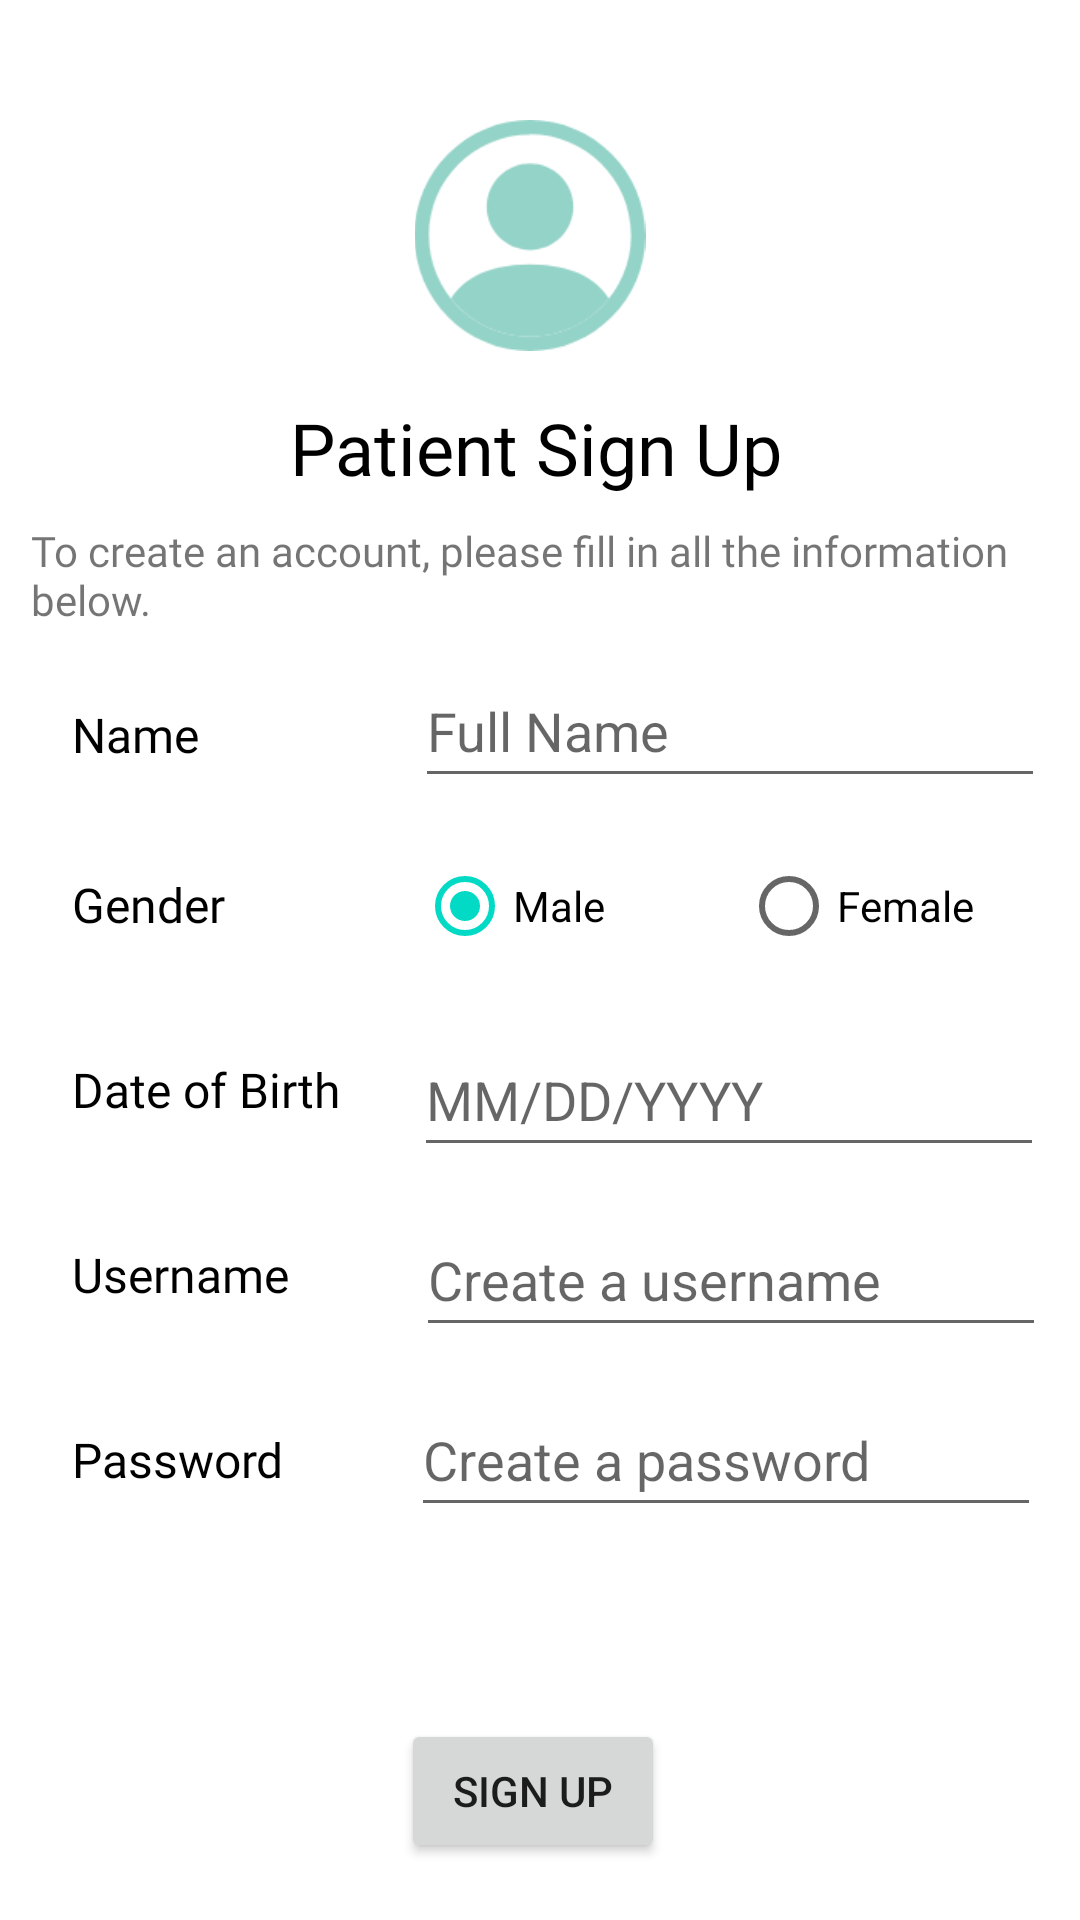

Named icons in this screenshot (1080 × 1920) and their bounding boxes, (x1, y1, x2, y2):
person circle: (415, 120, 646, 351)
